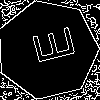E: (22, 25, 76, 68)
